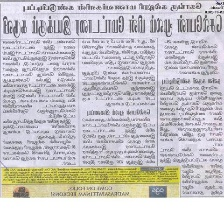news_paper: (0, 0, 224, 197)
